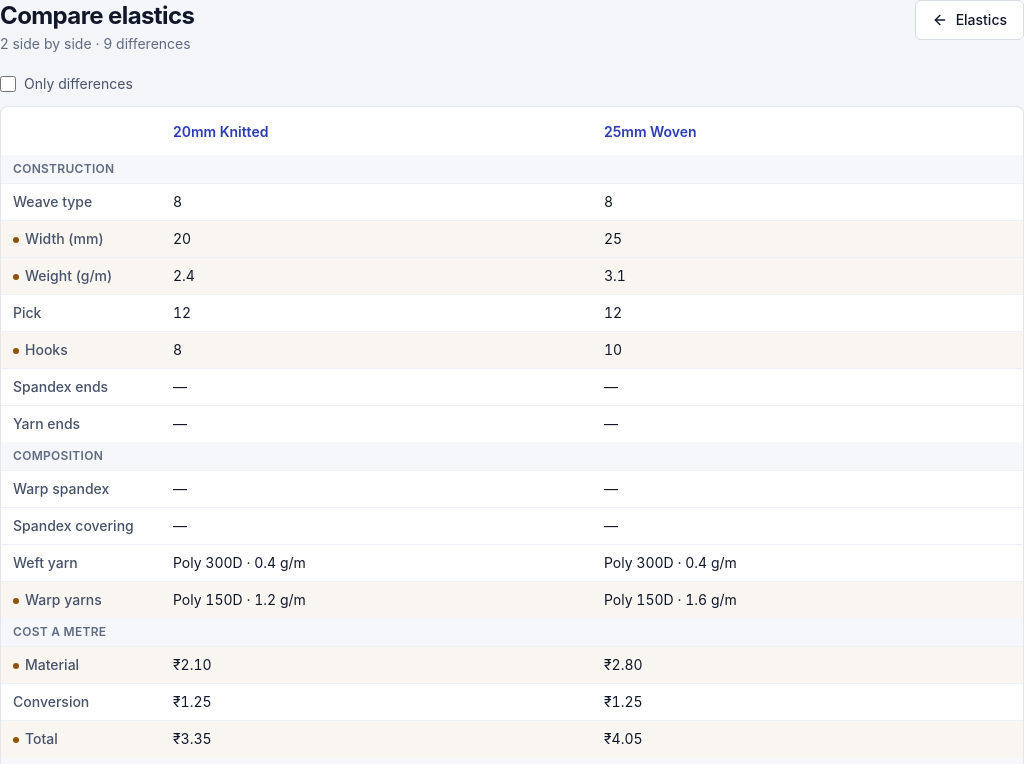
the comparison › marks what differs and can hide what is the same
The width and height of the screenshot is (1024, 764).
Expected: the link "20mm Knitted" is shown, [173, 123, 268, 140]
What coordinates should you click on to do the following:
click the checkbox labelled "Only differences"
I would click on:
 (8, 84)
Its box is [0, 76, 16, 92].
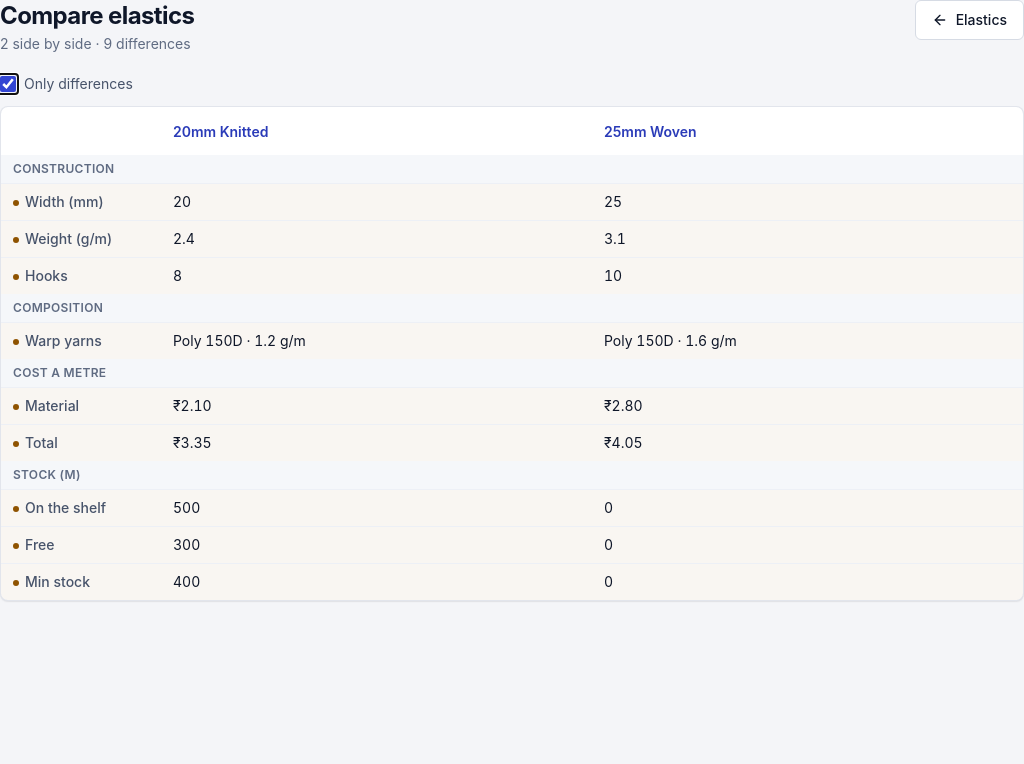
Result: the column heading "Pick" is gone
